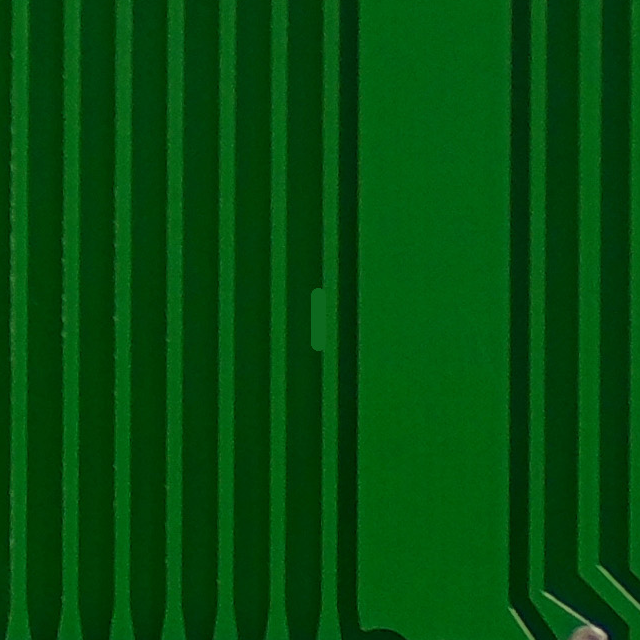spur: (292, 277, 348, 363)
